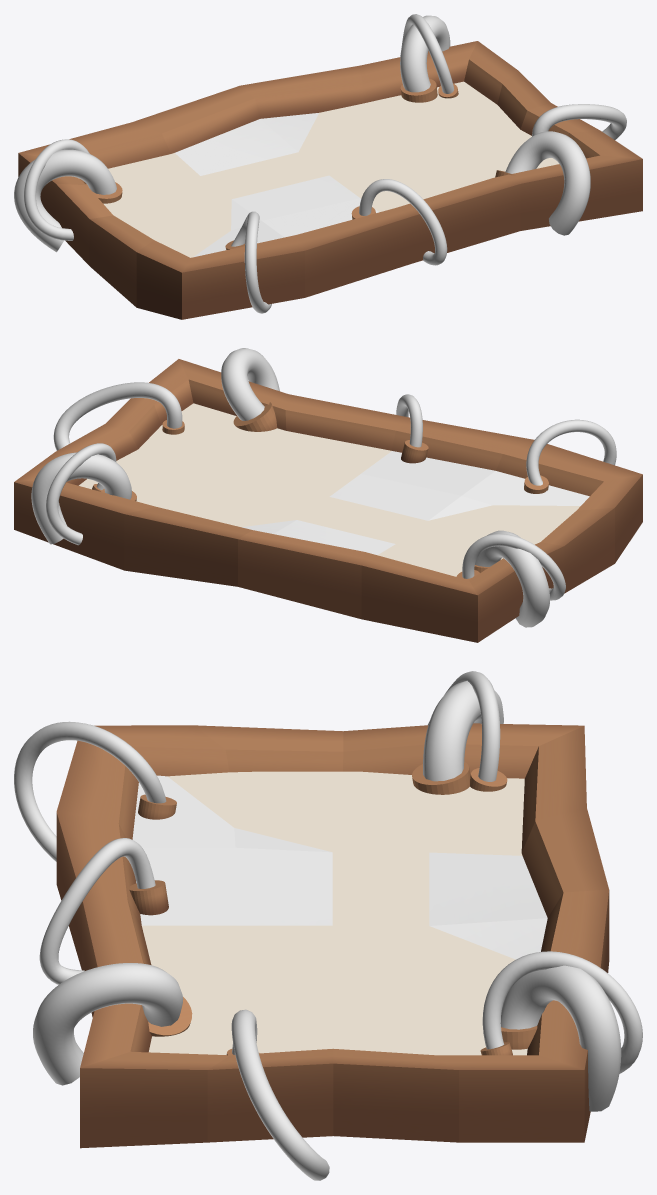
File: boardPrototype.fbx
3 renders of one model, top to bottom at view 1: azimuth 30°, elevation 25°; view 2: azimuth 150°, elevation 25°; view 3: azimuth 270°, elevation 25°, orthographic. The views are drawn at different scales.
Visible parts, largest first — view 1: board, board.001, Wires, Cylinder.001; view 2: board, board.001, Wires, Cylinder.003, Cylinder.007; view 3: board, board.001, Wires, Cylinder.004, Cylinder.007.
Boxes of the visible parts, x1,y1,x2,y2 form: board: [18, 41, 642, 319]; board.001: [103, 81, 558, 257]; Wires: [14, 14, 626, 313]; Cylinder.001: [400, 78, 437, 102]; board: [14, 359, 642, 642]; board.001: [79, 403, 580, 576]; Wires: [31, 348, 616, 627]; Cylinder.003: [233, 402, 277, 431]; Cylinder.007: [401, 440, 428, 463]; board: [56, 723, 609, 1148]; board.001: [142, 771, 527, 1055]; Wires: [14, 671, 642, 1180]; Cylinder.004: [412, 762, 470, 794]; Cylinder.007: [129, 880, 168, 915].
Size of the model in its own units: 4276 by 841 by 2752.
